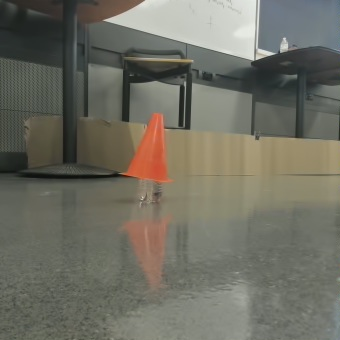Cone: (141, 107, 179, 174)
